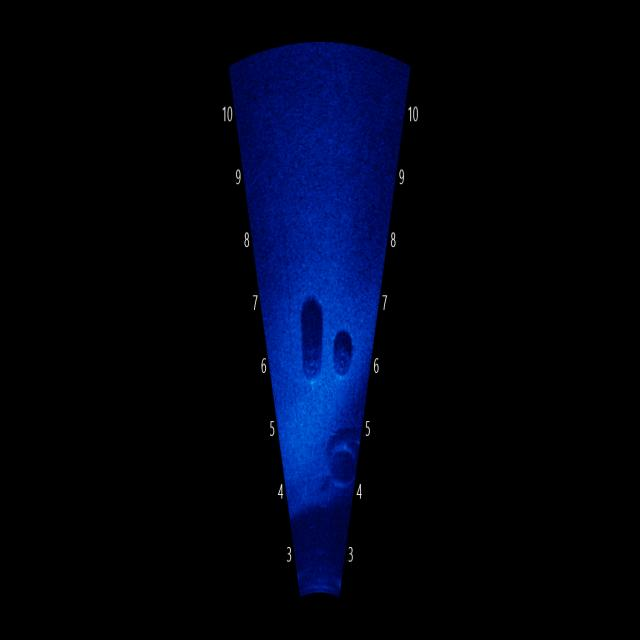circle: (323, 436, 358, 490), (332, 343, 350, 376)
